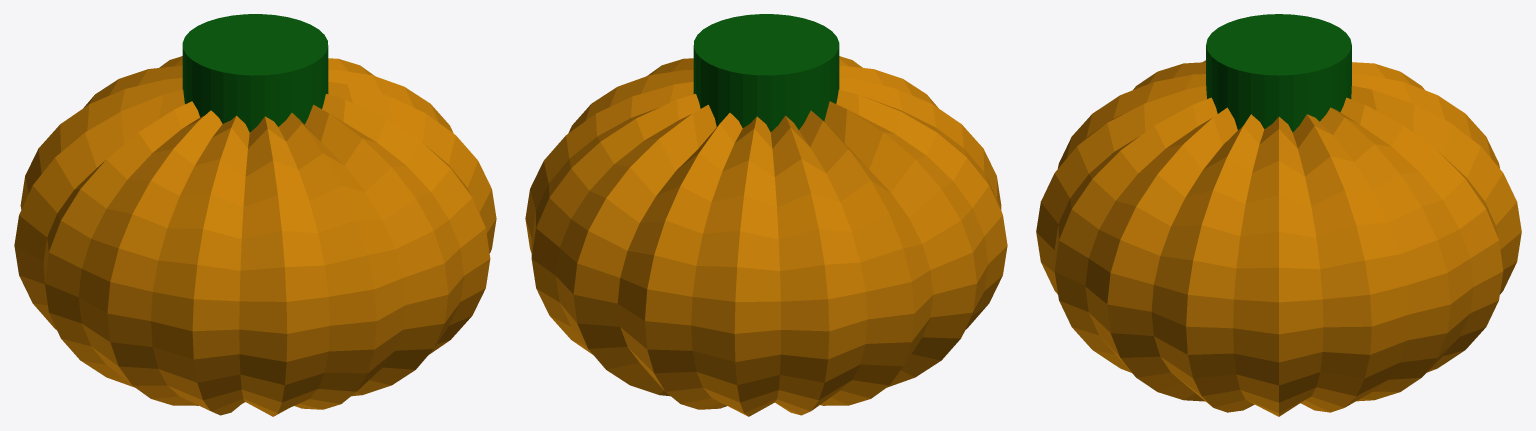
File: pumpkin.glb
The picture shows the model from 3 angles, left to right: view 1: azimuth 30°, elevation 25°; view 2: azimuth 150°, elevation 25°; view 3: azimuth 270°, elevation 25°; orthographic projection.
Visible parts, largest first — view 1: Sphere, Cylinder; view 2: Sphere, Cylinder; view 3: Sphere, Cylinder.
Boxes of the visible parts, bbox=[...] form: Sphere: bbox=[14, 56, 496, 416]; Cylinder: bbox=[182, 14, 328, 132]; Sphere: bbox=[525, 56, 1007, 416]; Cylinder: bbox=[693, 14, 839, 131]; Sphere: bbox=[1036, 60, 1521, 416]; Cylinder: bbox=[1206, 14, 1351, 132].
Size of the model in its own units: 2 by 1.54 by 2.
